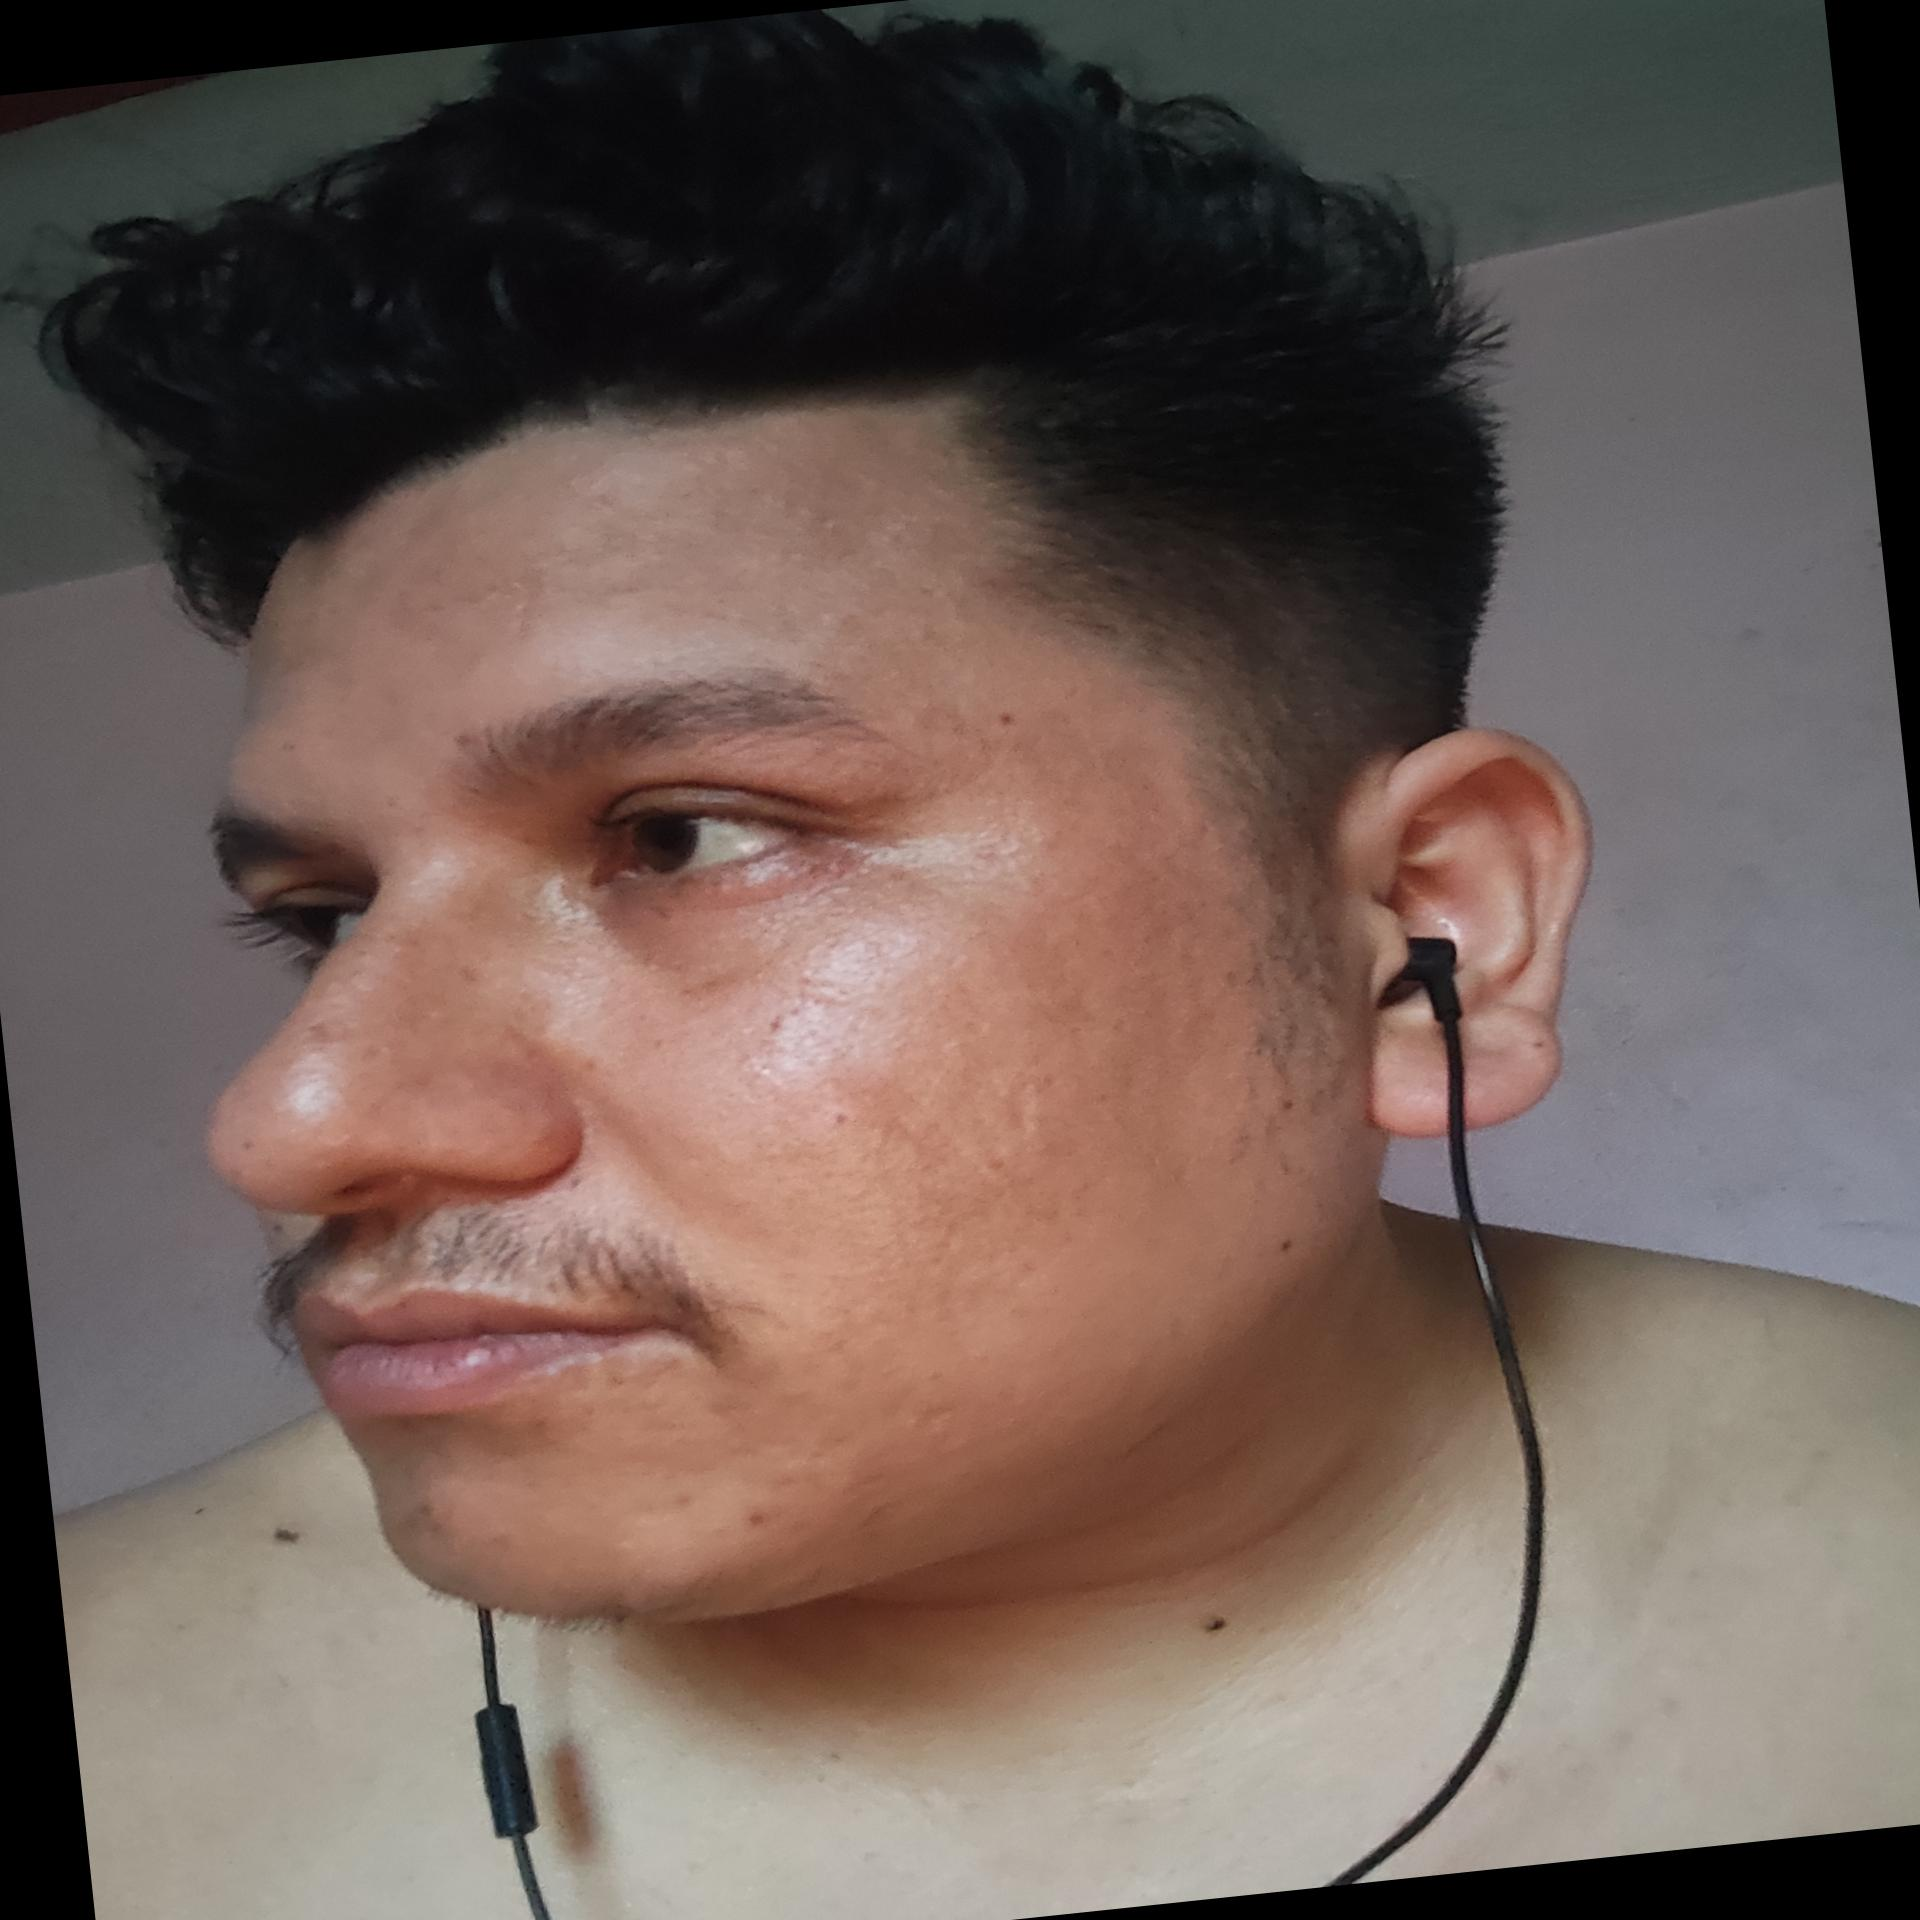Acne: (389, 1493, 457, 1547), (738, 1505, 782, 1530)
Englarged Pores: (897, 1081, 1078, 1241), (723, 934, 904, 1092)
